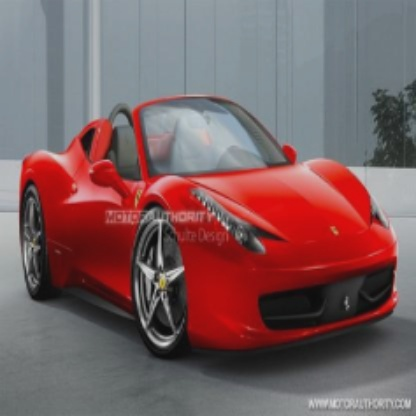Vehicle: (19, 88, 401, 363)
